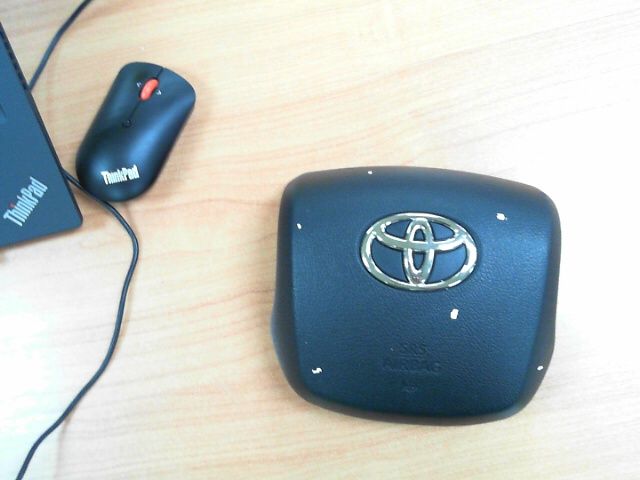Airbag: (449, 308, 459, 320), (496, 212, 508, 222), (311, 367, 322, 375), (536, 365, 544, 371), (297, 223, 302, 231), (368, 170, 373, 176)
